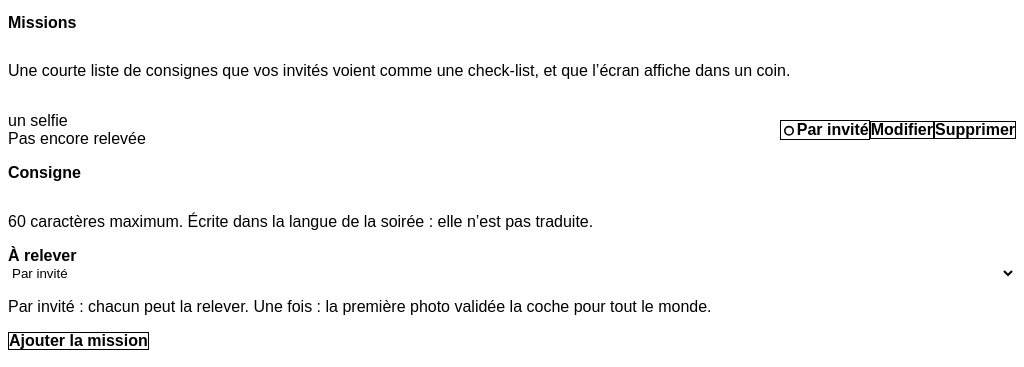
Test: MissionsPanel › lets the host abandon a correction without changing anything
Expected: the list item is shown, [8,112,1016,148]
Click the button "Modifier": (902, 130) [870,120,934,138]
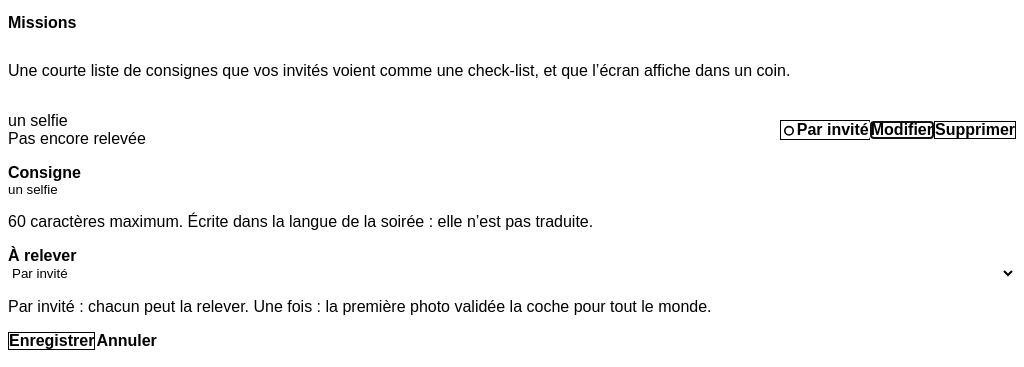
Click the button "Annuler": (127, 340) [95,332,158,350]
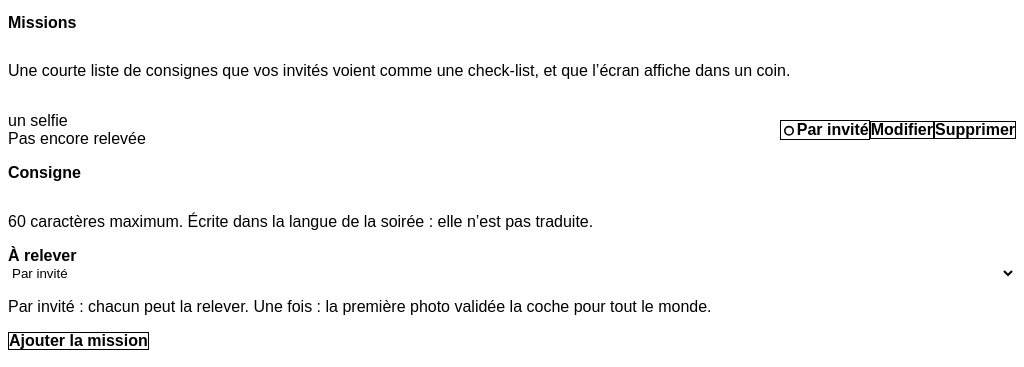
Result: the button "Ajouter la mission" is shown at [8,332,149,350]
